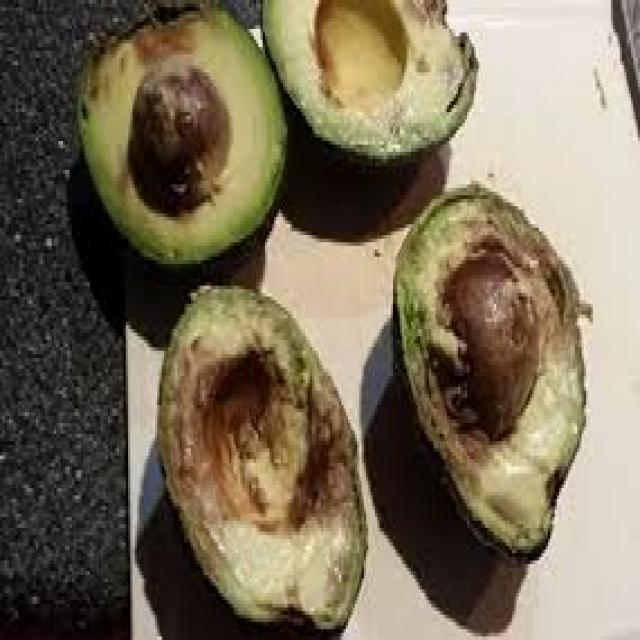organic waste: (155, 275, 366, 636), (391, 180, 586, 568), (72, 0, 285, 271), (256, 0, 476, 184), (438, 242, 537, 430), (128, 54, 231, 206)
